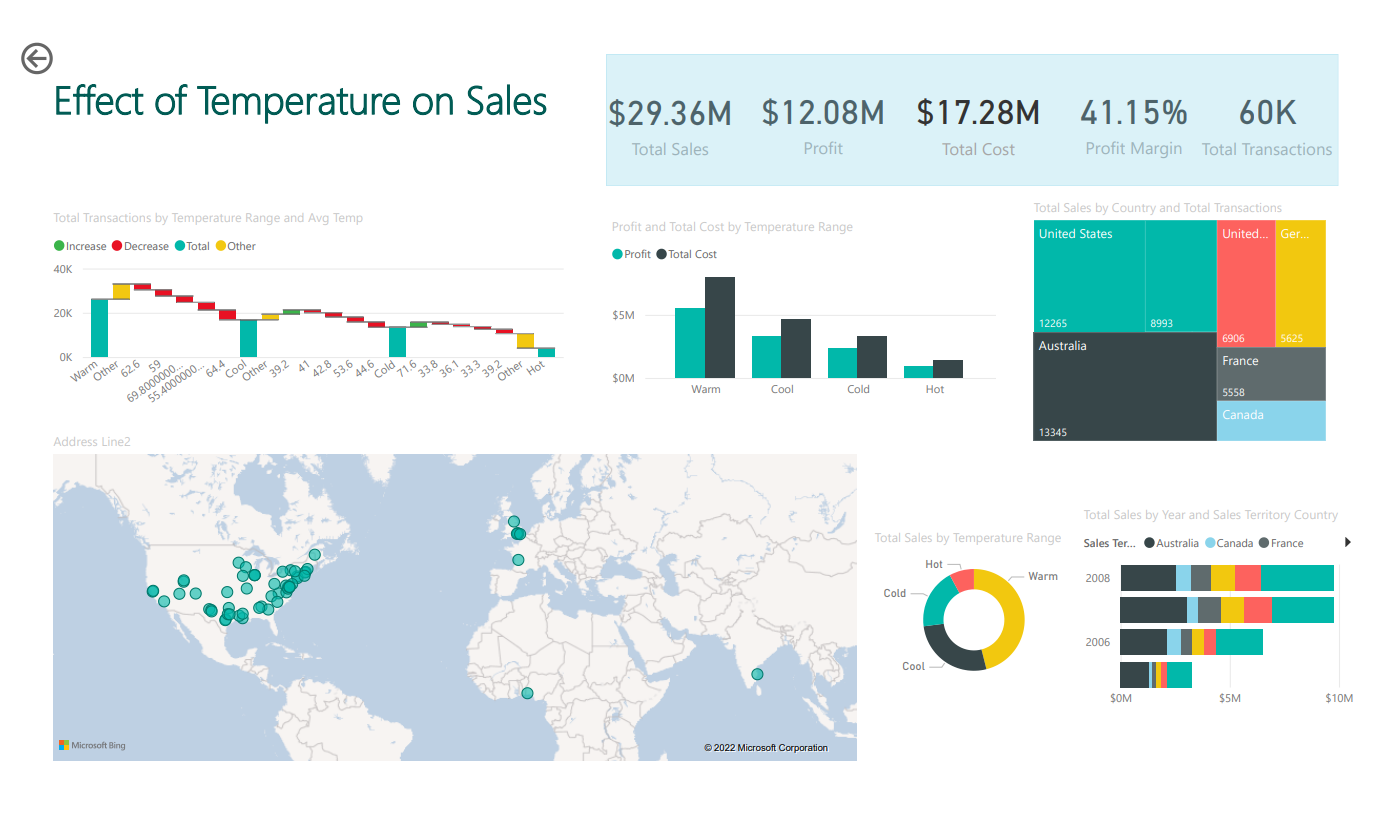

This screenshot's page, from the dashboard's own definition file:
{"tool":"powerbi","page":{"name":"Temperature Effecting Sales","canvas":[1280,720],"ordinal":0},"visuals":[{"type":"textbox","box":[31.1,28.2,525.4,90.3],"z":0},{"type":"card","fields":{"Values":["Internet Sales.Profit"]},"box":[702.9,40.6,132.5,77.5],"z":1000},{"type":"card","fields":{"Values":["Internet Sales.Total Sales"]},"box":[526.3,36.9,193.7,84.7],"z":2000},{"type":"card","fields":{"Values":["Internet Sales.Total Transactions"]},"box":[1118.3,15.3,146.9,128],"z":3000},{"type":"card","fields":{"Values":["Internet Sales.Profit Margin"]},"box":[998.4,24.3,133.4,109],"z":4000},{"type":"shape","box":[562.3,16.2,696.6,125.3],"z":5000},{"type":"treemap","fields":{"Group":["Sales Territory.Sales Territory Country"],"Values":["Internet Sales.Total Sales"],"Details":["Sales Territory.Total Transactions"]},"box":[964.2,153.2,288.4,236.1],"z":6000},{"type":"card","fields":{"Values":["Internet Sales.Total Cost"]},"box":[835.3,30.6,163.1,97.3],"z":7000},{"type":"actionButton","box":[0,0,39.8,40.8],"z":8000},{"type":"lineClusteredColumnComboChart","fields":{"Category":["Temperature.Temperature Range"],"Y":["Internet Sales.Profit","Internet Sales.Total Cost"]},"box":[562.3,171.2,375.8,182],"z":9000},{"type":"barChart","fields":{"Category":["Date.Year"],"Y":["Internet Sales.Total Sales"],"Series":["Sales Territory.Sales Territory Country"]},"box":[1012,446.1,266.7,201],"z":10000},{"type":"map","fields":{"Category":["Customer.Address Line2","Customer.Address Line1"]},"box":[31.1,375.8,775,317.6],"z":11000},{"type":"waterfallChart","fields":{"Category":["Temperature.Temperature Range"],"Breakdown":["Temperature.Avg Temp"],"Y":["Internet Sales.Total Transactions"]},"box":[30.6,163.1,495.6,197.3],"z":12000},{"type":"donutChart","fields":{"Category":["Temperature.Temperature Range"],"Y":["Internet Sales.Total Sales"]},"box":[812.8,467.7,199.1,157.7],"z":13000}]}

Visuals, with their boxes on the page's 1280x720 design canvas (x1, y1, x2, y2). These are canvas units, not pixel positions in the 1376x814 screenshot, which may show the page scaled, cropped or inside an application window:
textbox: BBox(31, 28, 556, 118)
card - Internet Sales.Profit: BBox(703, 41, 835, 118)
card - Internet Sales.Total Sales: BBox(526, 37, 720, 122)
card - Internet Sales.Total Transactions: BBox(1118, 15, 1265, 143)
card - Internet Sales.Profit Margin: BBox(998, 24, 1132, 133)
shape: BBox(562, 16, 1259, 142)
treemap - Sales Territory.Sales Territory Country x Internet Sales.Total Sales: BBox(964, 153, 1253, 389)
card - Internet Sales.Total Cost: BBox(835, 31, 998, 128)
actionButton: BBox(0, 0, 40, 41)
lineClusteredColumnComboChart - Temperature.Temperature Range x Internet Sales.Profit: BBox(562, 171, 938, 353)
barChart - Date.Year x Internet Sales.Total Sales: BBox(1012, 446, 1279, 647)
map - Customer.Address Line2 x Customer.Address Line1: BBox(31, 376, 806, 693)
waterfallChart - Temperature.Temperature Range x Temperature.Avg Temp: BBox(31, 163, 526, 360)
donutChart - Temperature.Temperature Range x Internet Sales.Total Sales: BBox(813, 468, 1012, 625)
